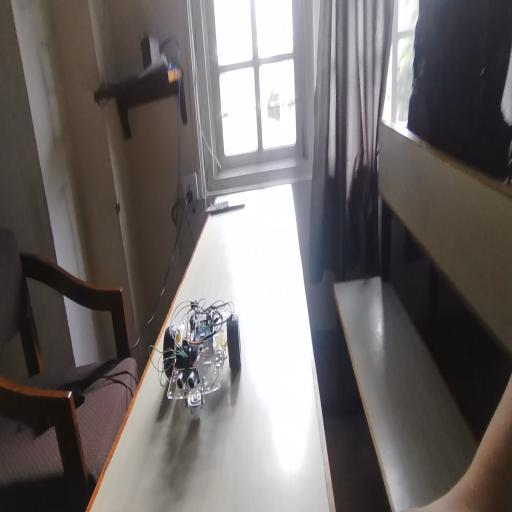car: (151, 290, 246, 447)
